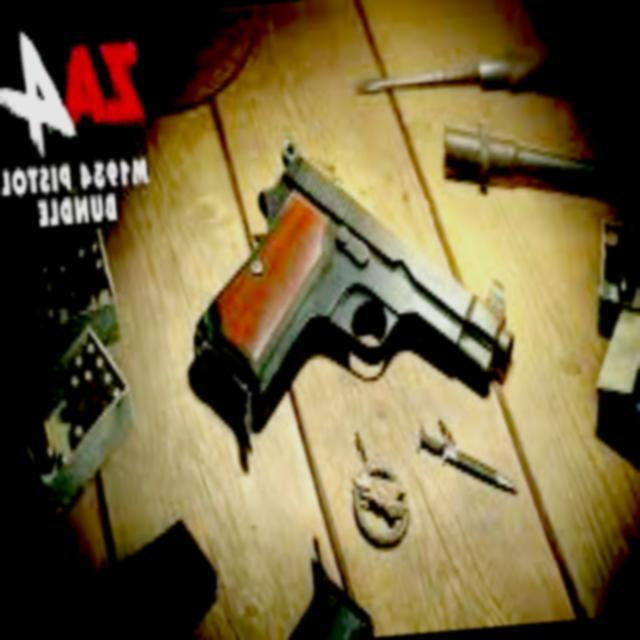semi automatic: (151, 92, 530, 496)
